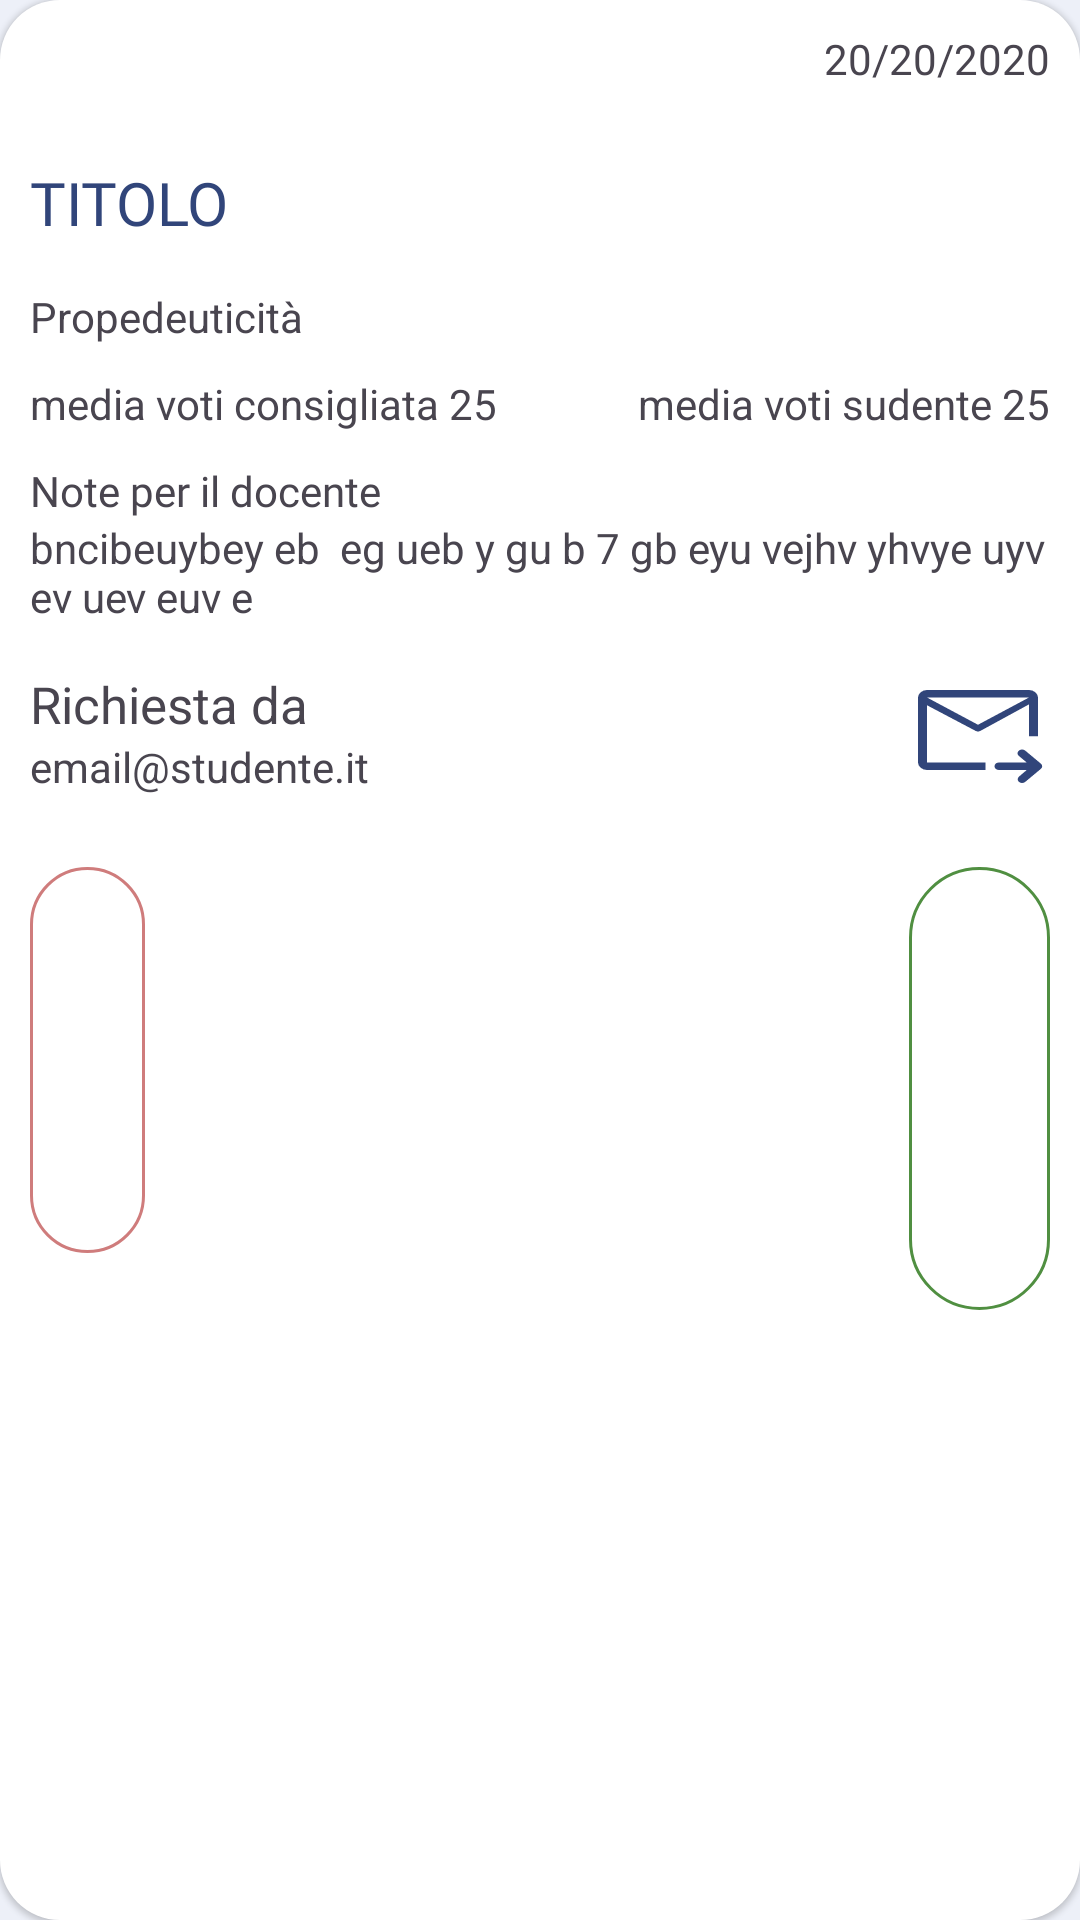

Screen size 1080 × 1920. Icon name, then its center in pixels as [x,y]:
invio email: [980,736]
